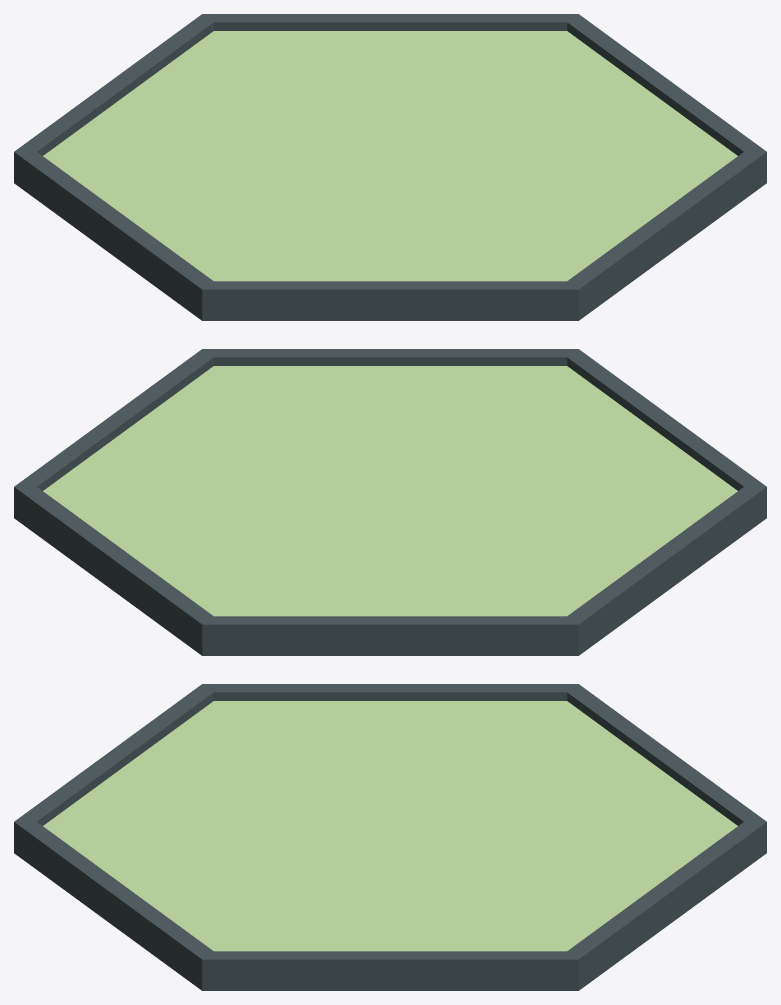
File: Dice.fbx
3 views of the same model, one above another, from view 1: azimuth 30°, elevation 25°; view 2: azimuth 150°, elevation 25°; view 3: azimuth 270°, elevation 25° (orthographic).
Visible parts, largest first — view 1: Dice; view 2: Dice; view 3: Dice.
Boxes of the visible parts, x1=… form: Dice: x1=14, y1=14, x2=766, y2=320; Dice: x1=14, y1=349, x2=766, y2=655; Dice: x1=14, y1=684, x2=766, y2=990.
Size of the model in its own units: 314 by 16.69 by 363.
